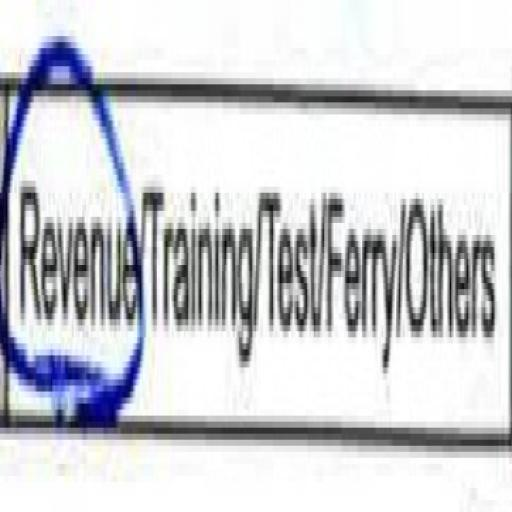check: (0, 0, 142, 499)
